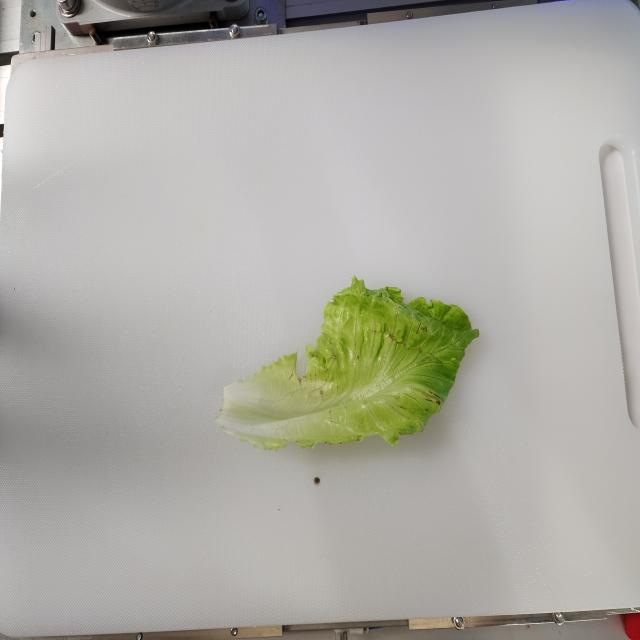lettuce: (215, 274, 480, 452)
